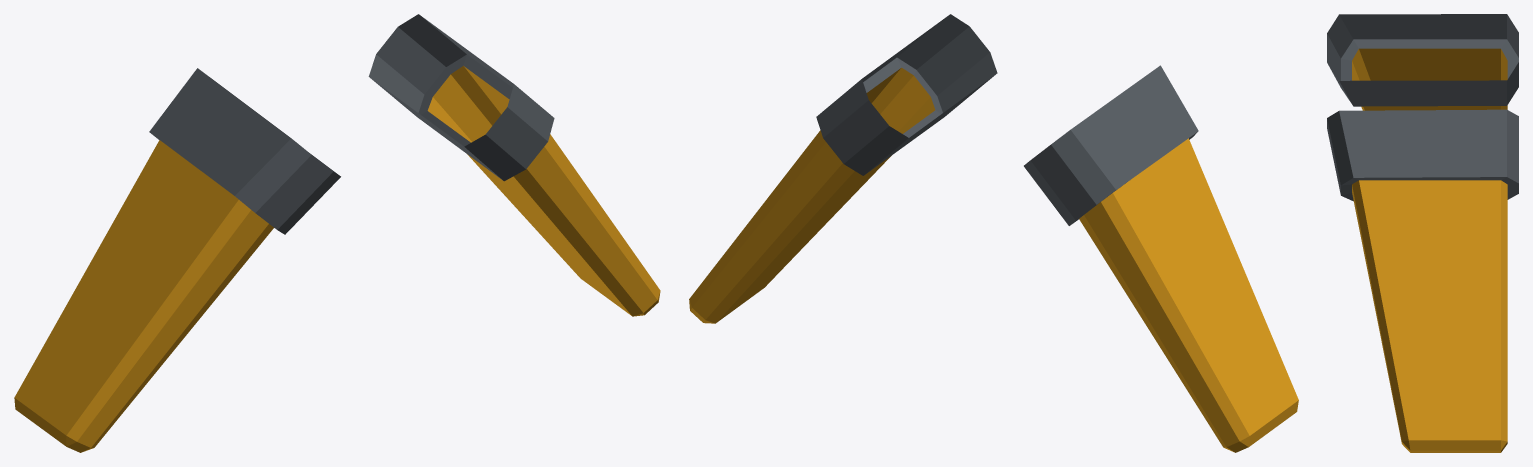
The model's file is Personal_Vehicle_04_Rear_Wings_Yellow.fbx.
3 renders of one model, left to right at view 1: azimuth 30°, elevation 25°; view 2: azimuth 150°, elevation 25°; view 3: azimuth 270°, elevation 25°, orthographic. The views are drawn at different scales.
Parts seen in each view (by area): view 1: Personal_Vehicle_04_Rear_Wings_Yellow; view 2: Personal_Vehicle_04_Rear_Wings_Yellow; view 3: Personal_Vehicle_04_Rear_Wings_Yellow.
Part boxes in pixels (x1,y1,x2,y2): Personal_Vehicle_04_Rear_Wings_Yellow: (14, 14, 660, 452); Personal_Vehicle_04_Rear_Wings_Yellow: (689, 14, 1298, 452); Personal_Vehicle_04_Rear_Wings_Yellow: (1327, 14, 1518, 452).
Bounding box in the file's own units: 111 × 54.22 × 35.07.
Materials: 1 (1 with a texture image).
